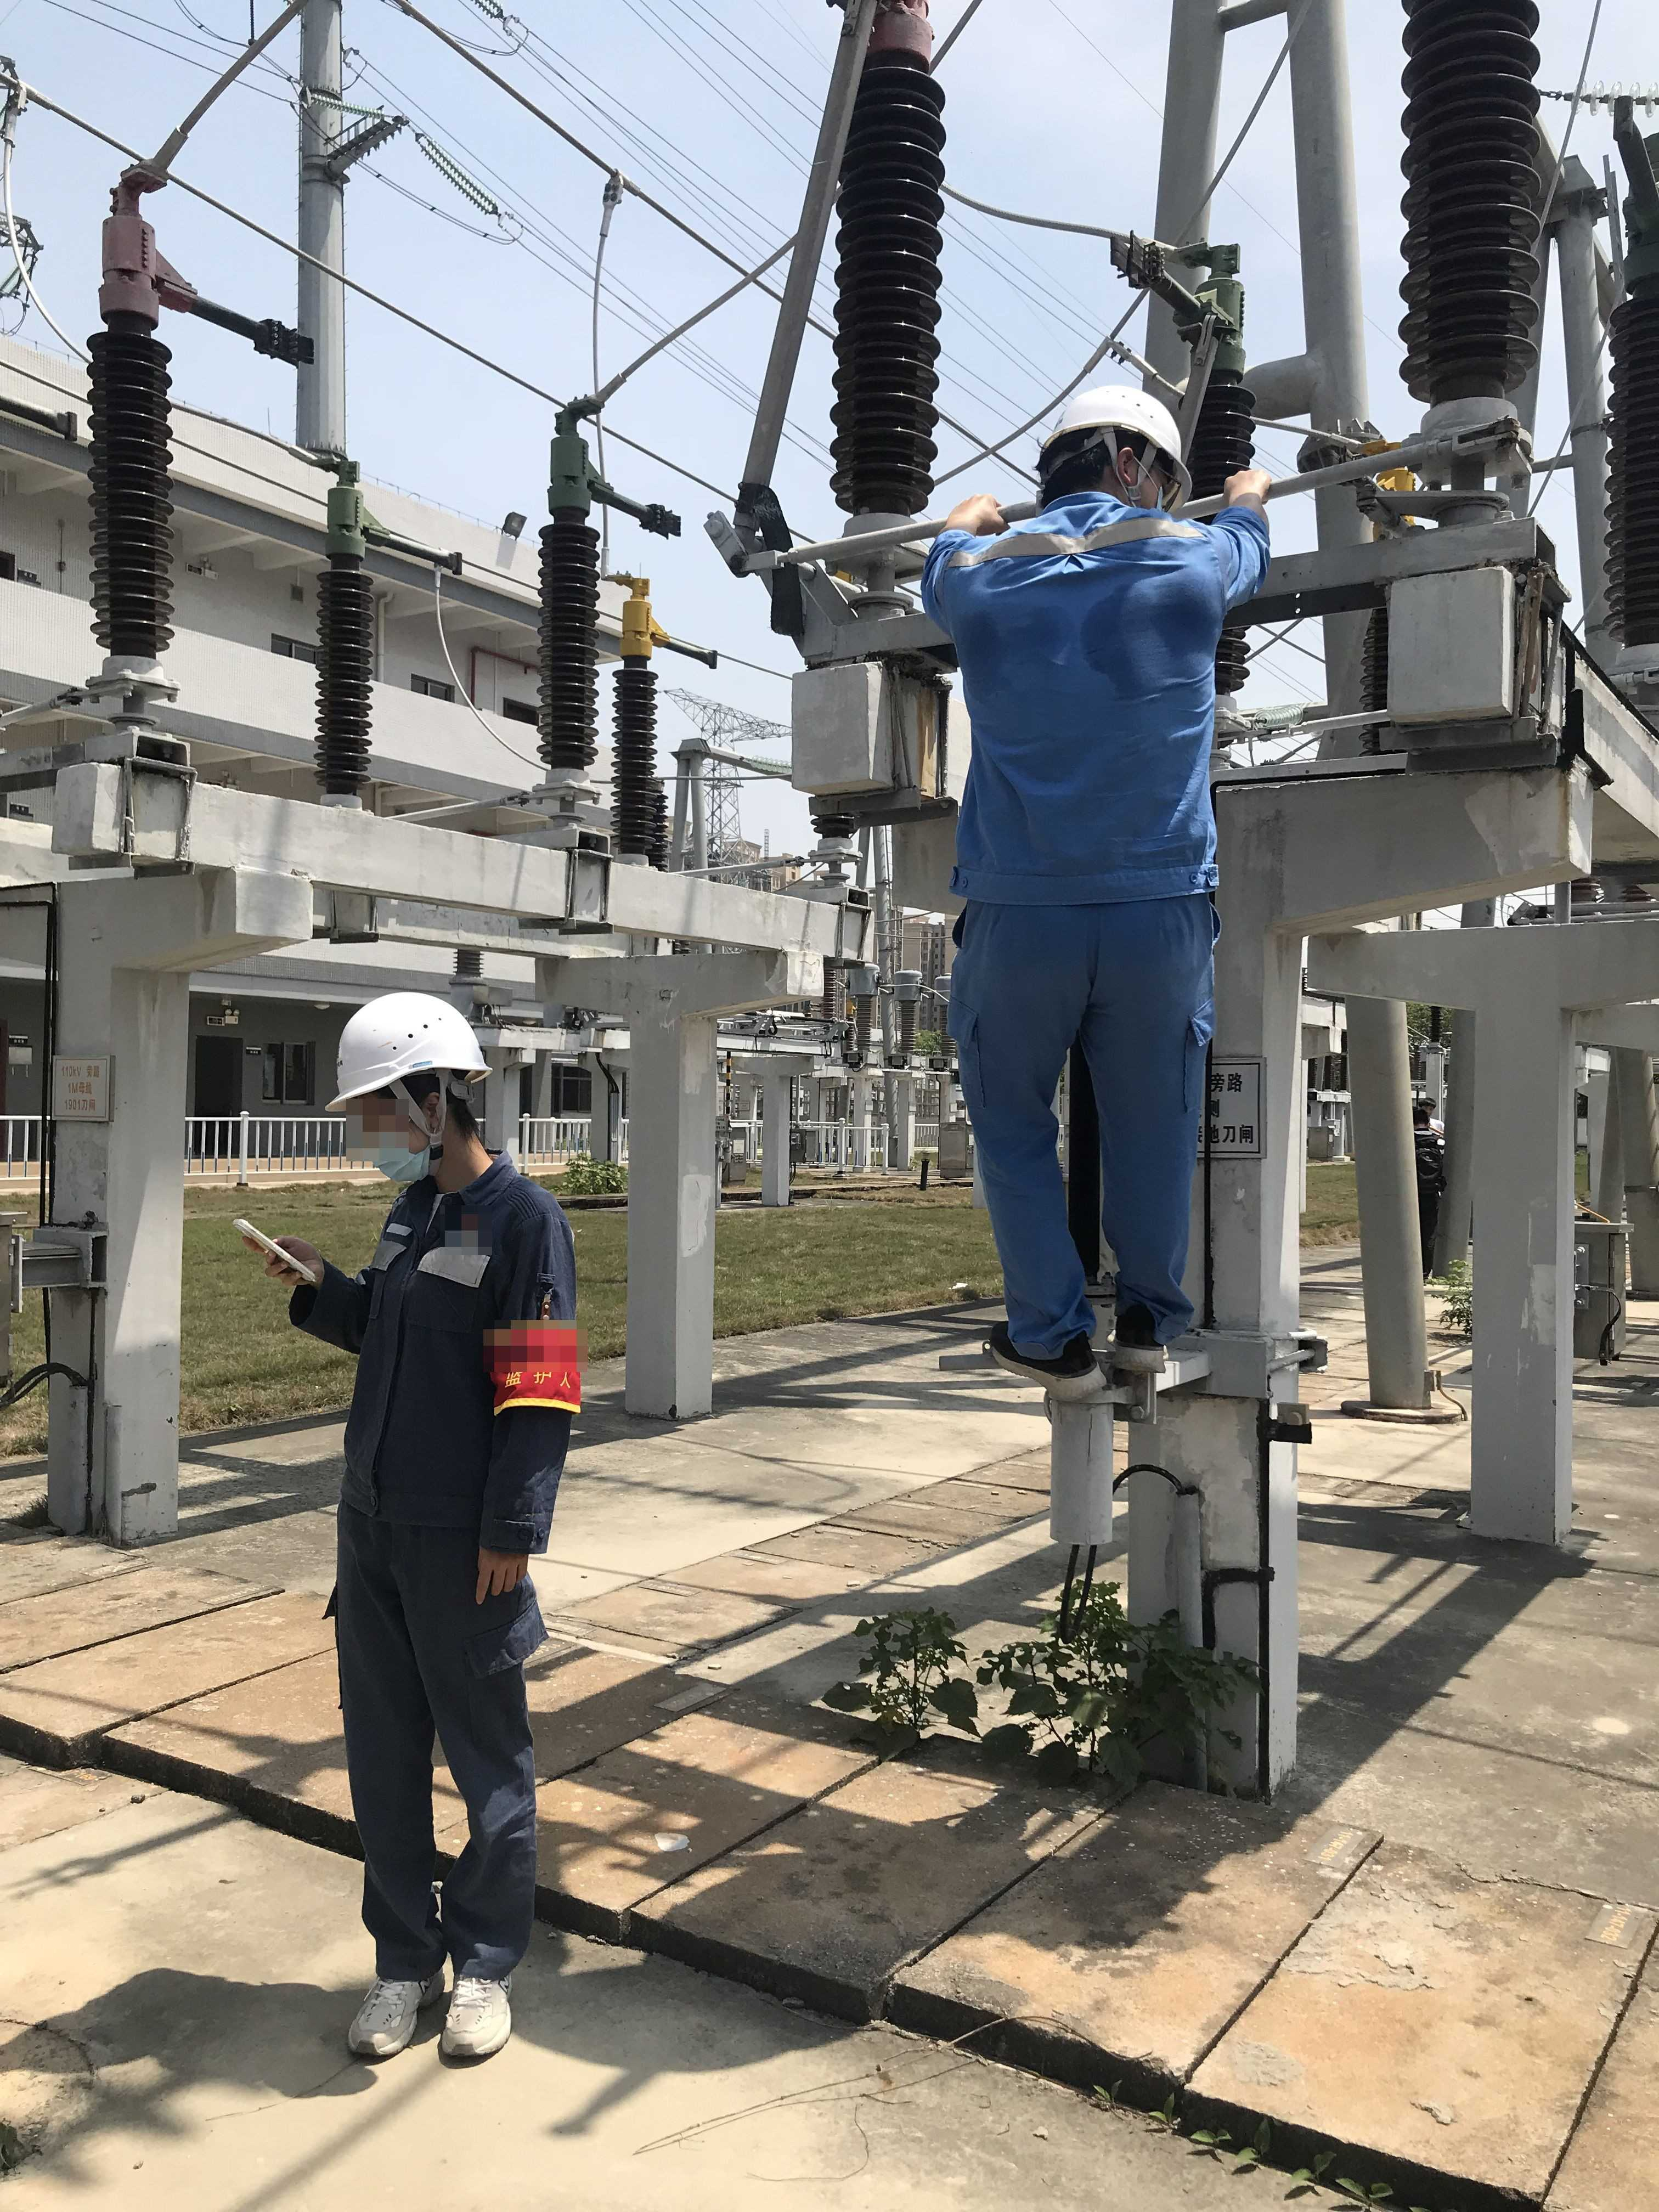downsuit: (957, 932, 1215, 1338), (329, 1581, 558, 1989)
upsuit: (908, 496, 1284, 904), (298, 1158, 584, 1550)
wrongtop: (932, 488, 1011, 550), (1218, 463, 1276, 533)
